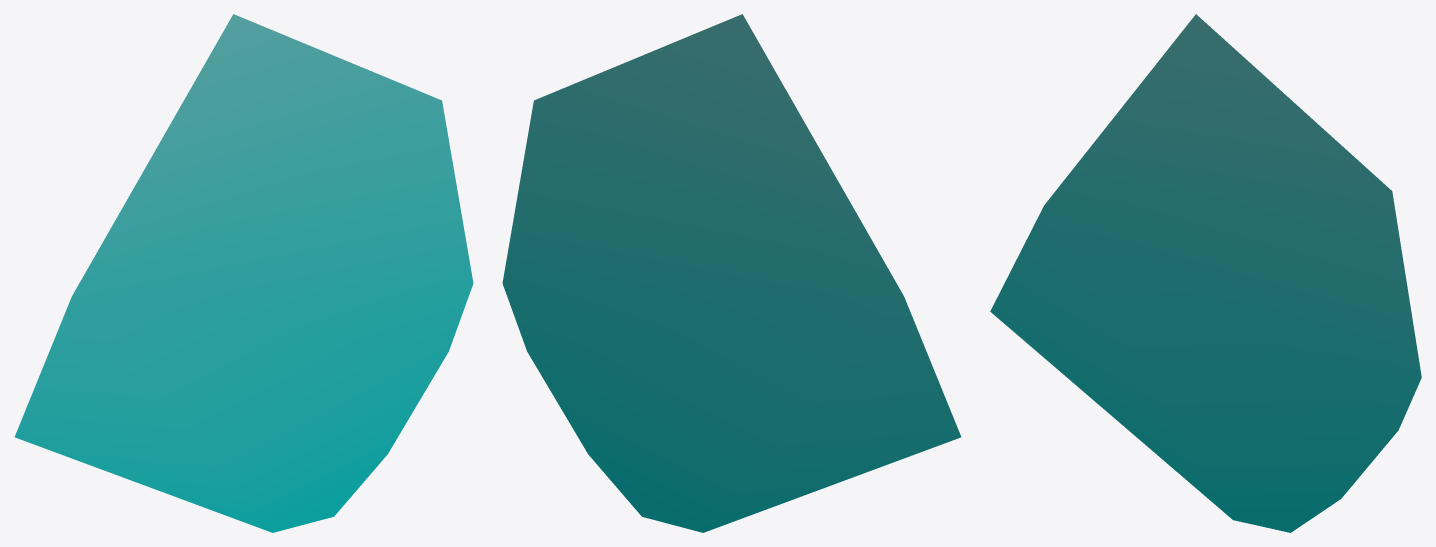
File: Wild_Grass_sjliZ_Mid_sjliZ_VarE_LOD2.fbx
3 renders of one model, left to right at view 1: azimuth 30°, elevation 25°; view 2: azimuth 150°, elevation 25°; view 3: azimuth 330°, elevation 25°, orthographic. The views are drawn at different scales.
Parts seen in each view (by area): view 1: _6fd9_VarE_LOD3; view 2: _6fd9_VarE_LOD3; view 3: _6fd9_VarE_LOD3.
Part boxes in pixels (x1,y1,x2,y2): _6fd9_VarE_LOD3: (14,14,473,532); _6fd9_VarE_LOD3: (502,14,961,532); _6fd9_VarE_LOD3: (990,14,1421,532).
Size of the model in its own units: 141 by 155 by 0.
